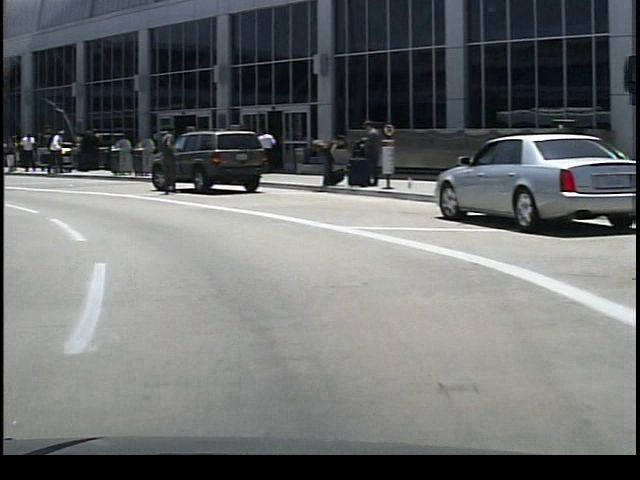person: (343, 118, 382, 191), (148, 116, 177, 201), (312, 127, 342, 188), (39, 125, 67, 177), (250, 122, 275, 177), (17, 129, 36, 177)
